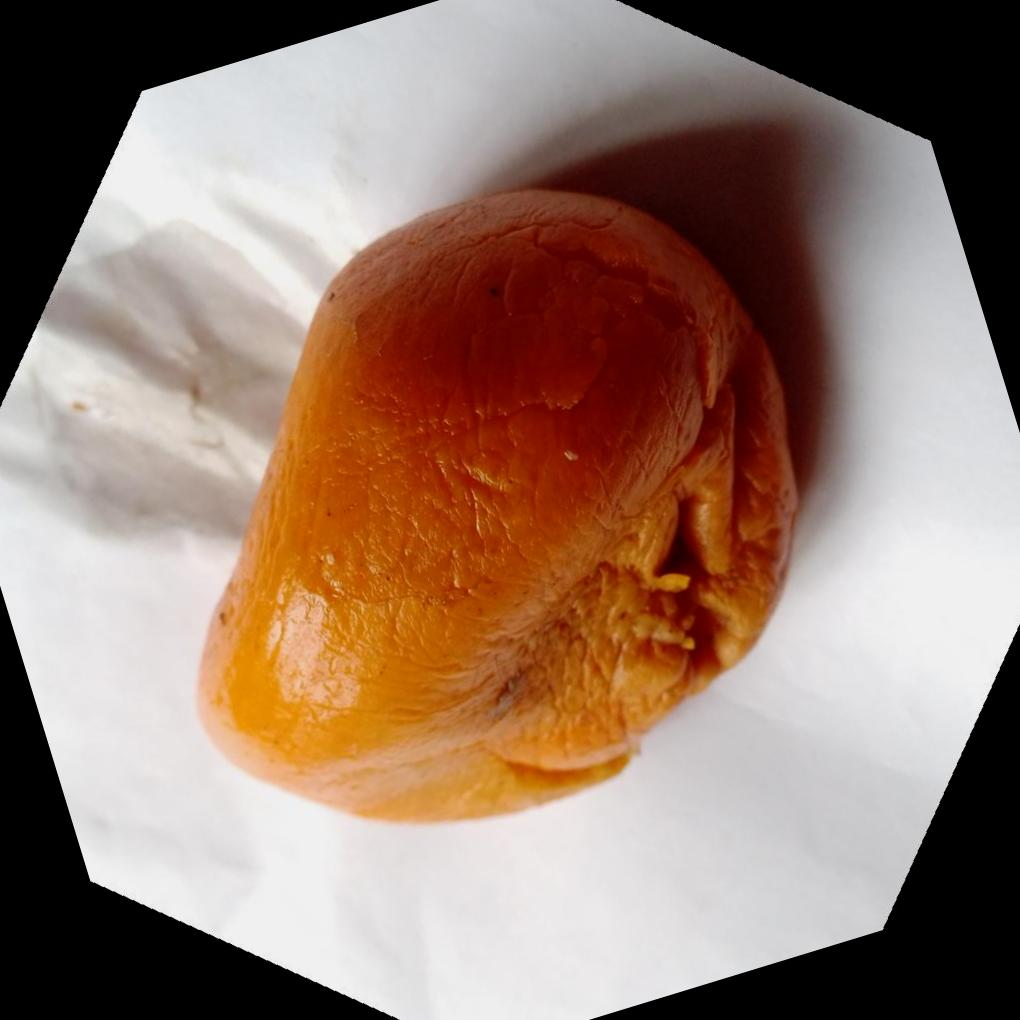FreshOrange: (195, 182, 805, 825)
